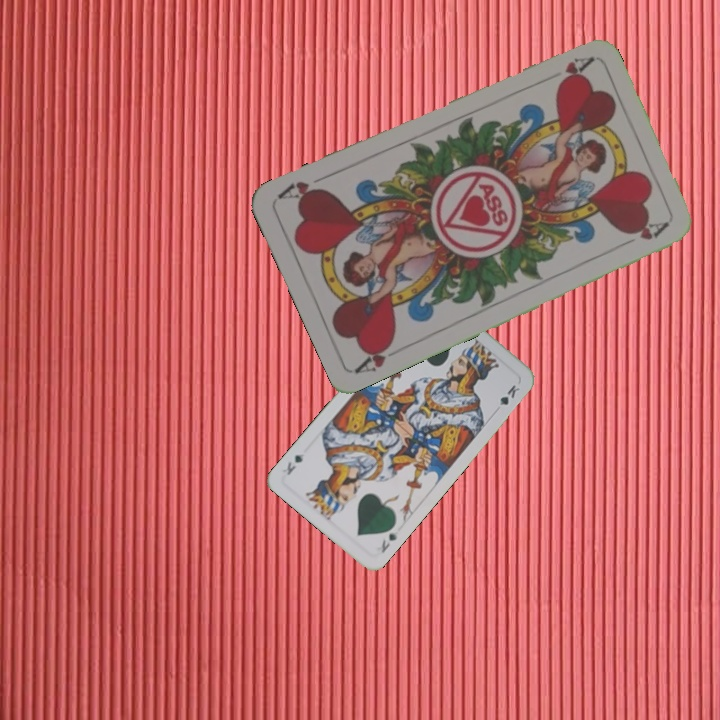GK: (377, 529, 400, 556)
HA: (352, 335, 408, 376), (556, 52, 595, 84)
